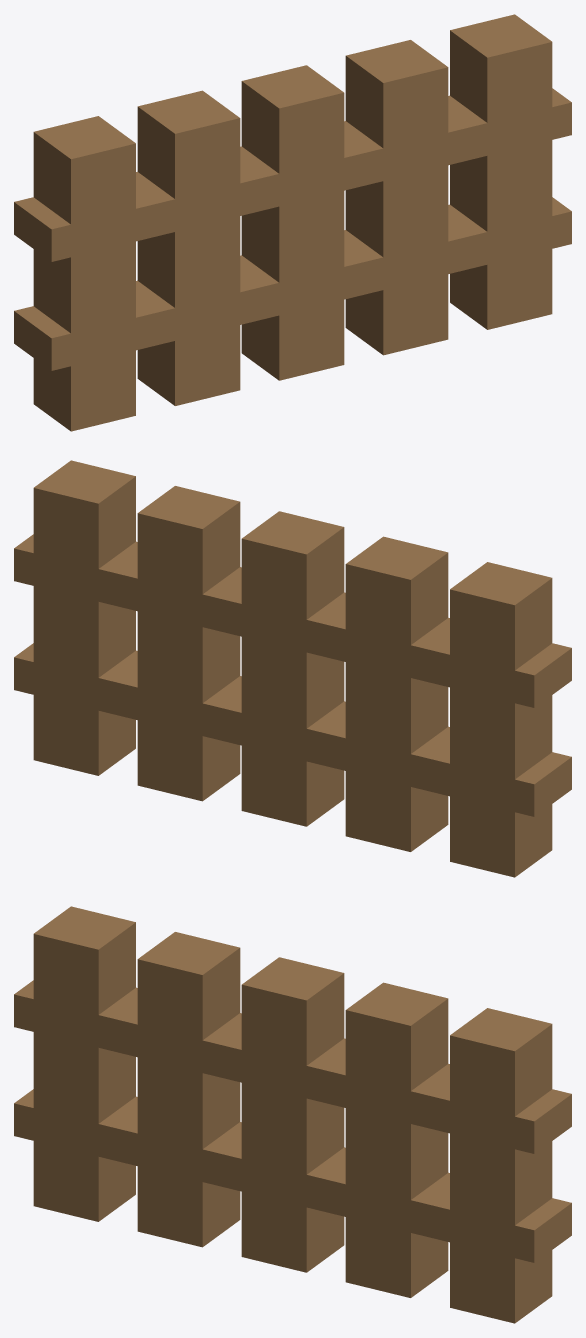
3 views of the same model, one above another, from view 1: azimuth 30°, elevation 25°; view 2: azimuth 150°, elevation 25°; view 3: azimuth 330°, elevation 25° (orthographic).
Visible parts, largest first — view 1: fence-a@1.0.0; view 2: fence-a@1.0.0; view 3: fence-a@1.0.0.
Part boxes in pixels (box(x1,y1,x2,y2)): fence-a@1.0.0: box(14, 14, 571, 431); fence-a@1.0.0: box(14, 460, 571, 877); fence-a@1.0.0: box(14, 906, 571, 1323).
Bounding box in the file's own units: 2 × 1 × 0.25.
